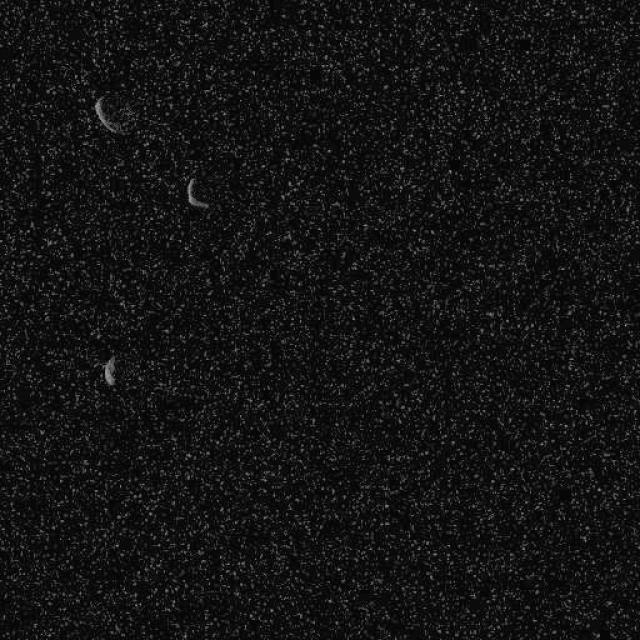D2: (92, 92, 138, 136), (185, 175, 210, 209), (102, 355, 116, 386)
